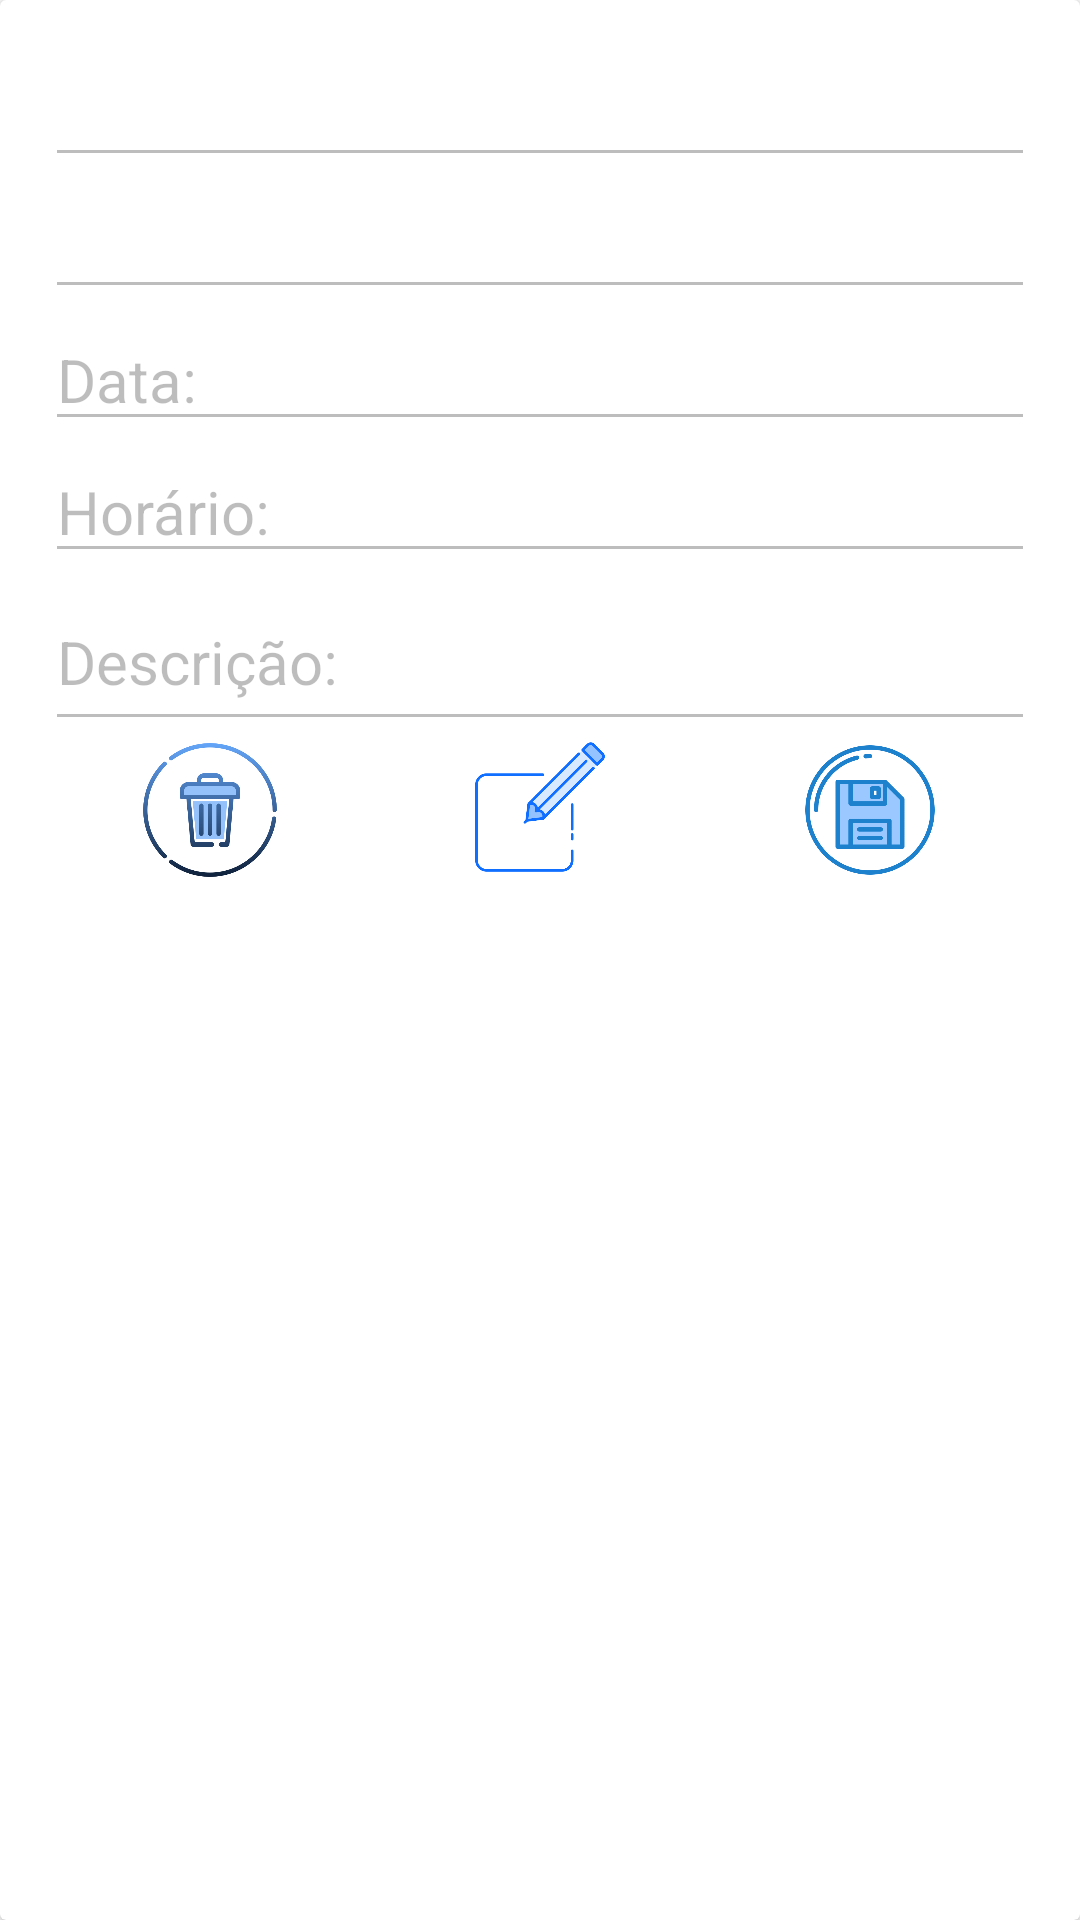

Icons on this 1080px×1920px Android screen, each with its box as (x1, y1, x2, y2):
lapis: (475, 742, 605, 872)
save: (805, 745, 935, 875)
